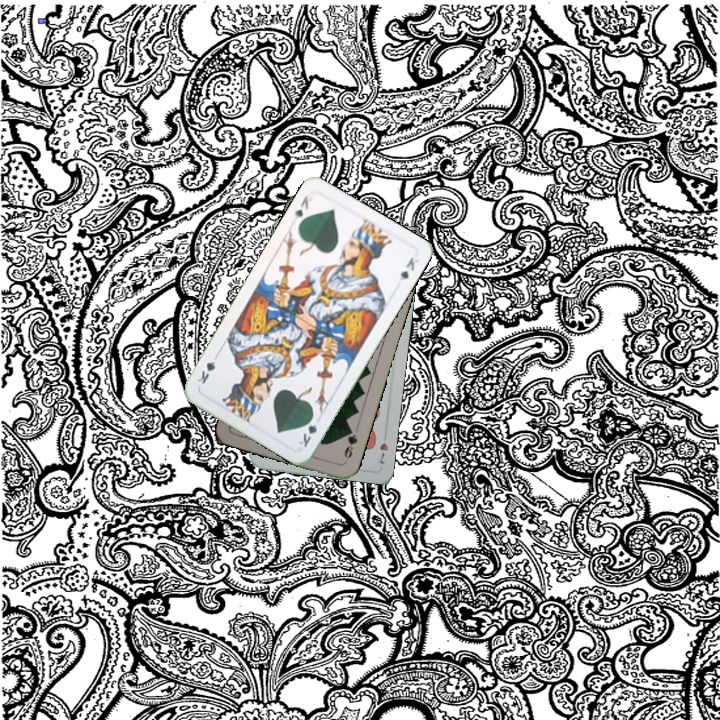G9: (340, 424, 360, 461)
GK: (294, 411, 321, 449), (290, 192, 311, 223)
H7: (375, 428, 391, 466)
